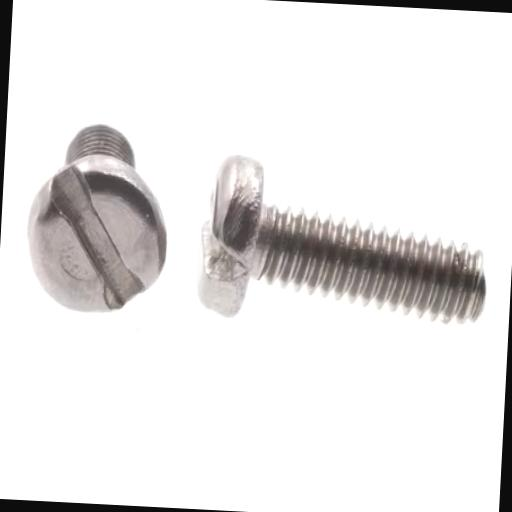Slotted: (22, 152, 175, 322)
